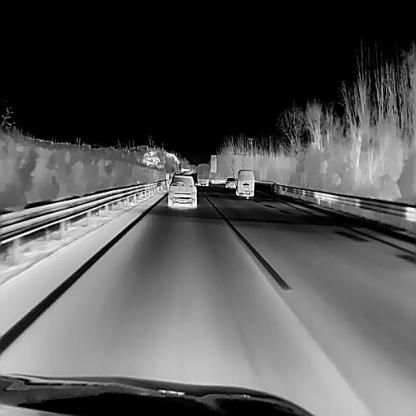car: (166, 170, 196, 206), (235, 167, 254, 196), (224, 176, 235, 188)
truck: (194, 162, 210, 186)
